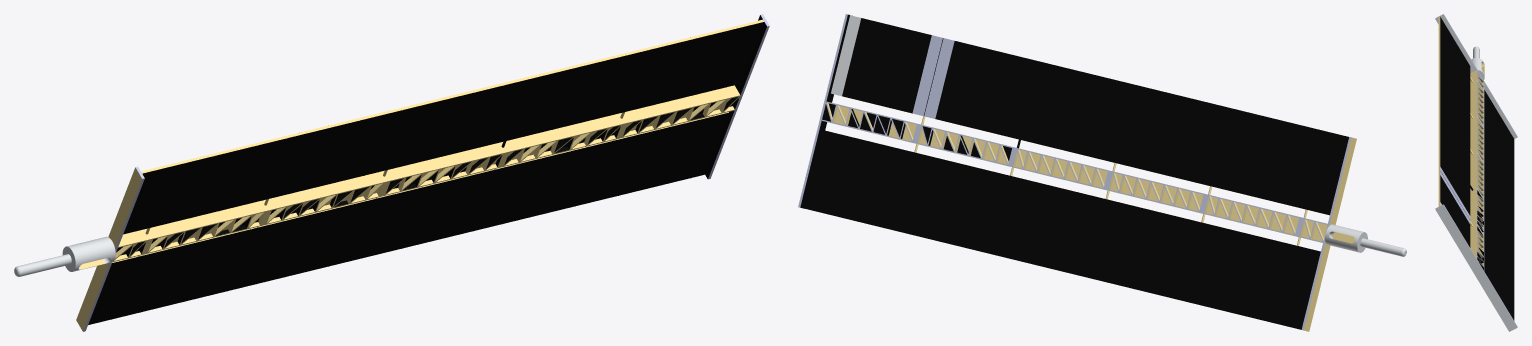
The model's file is solarpanels_4.FBX.
3 renders of one model, left to right at view 1: azimuth 30°, elevation 25°; view 2: azimuth 150°, elevation 25°; view 3: azimuth 270°, elevation 25°, orthographic. The views are drawn at different scales.
Visible parts, largest first — view 1: pieza N111 ISS-3-solid1; view 2: pieza N111 ISS-3-solid1; view 3: pieza N111 ISS-3-solid1.
Part boxes in pixels (x1,y1,x2,y2): pieza N111 ISS-3-solid1: (14,14,769,331); pieza N111 ISS-3-solid1: (798,14,1406,331); pieza N111 ISS-3-solid1: (1435,14,1517,331).
Size of the model in its own units: 2700 by 727 by 429.
